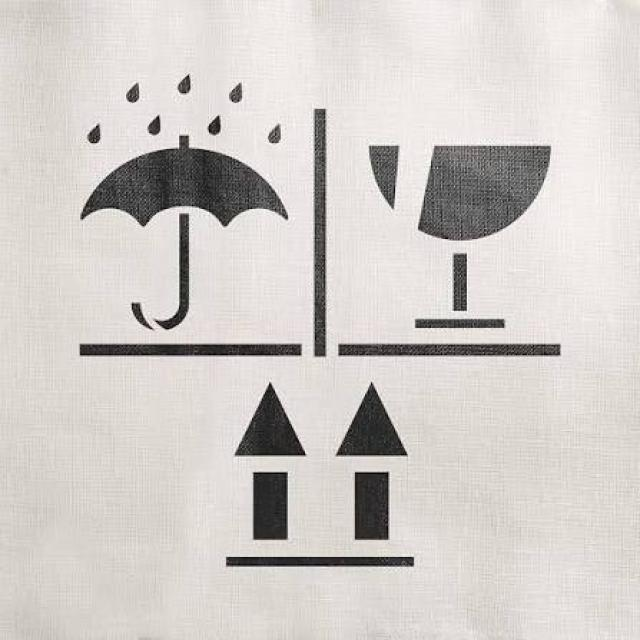fragile_label: (342, 120, 580, 352)
keep_dry_label: (54, 55, 312, 352)
this_side_up_label: (196, 362, 467, 591)
